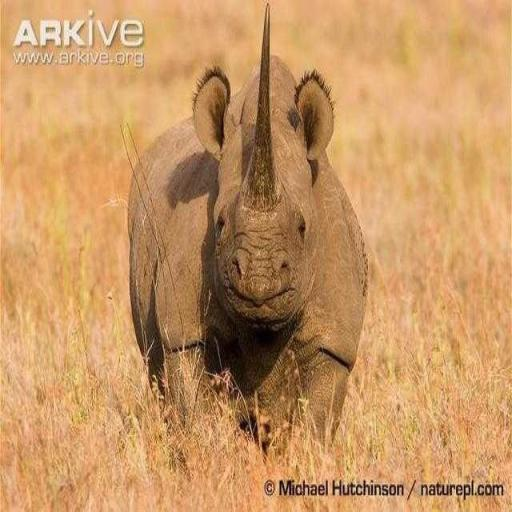Rhino: (126, 2, 370, 466)
